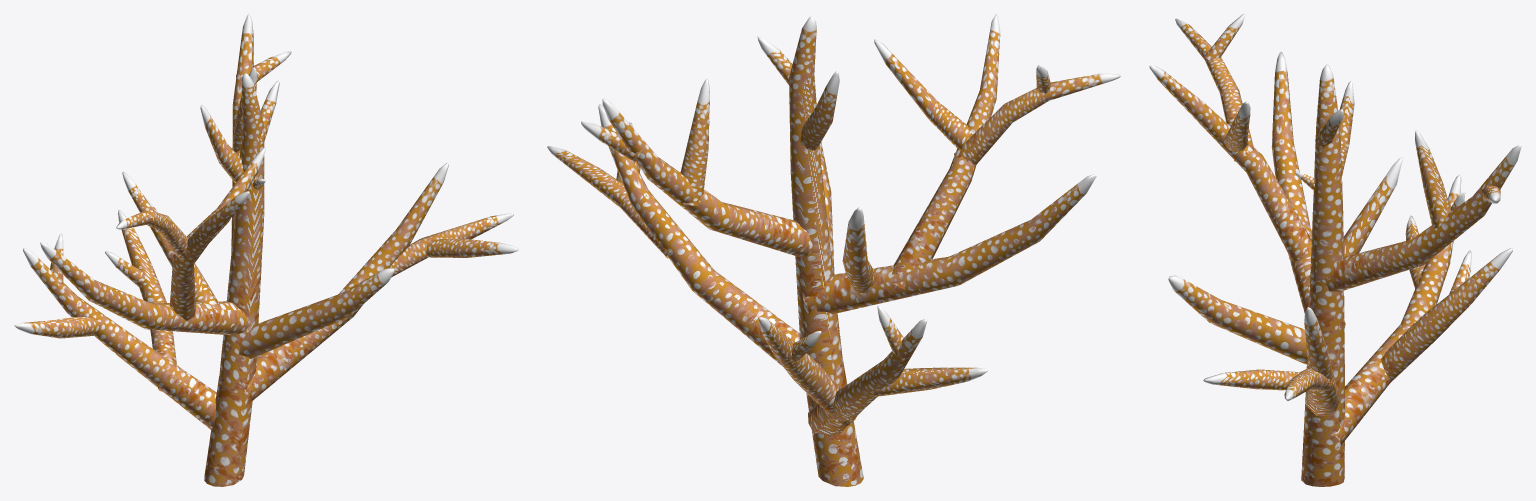
File: StaghornCoral00d.fbx
3 views of the same model, side by side, from view 1: azimuth 30°, elevation 25°; view 2: azimuth 150°, elevation 25°; view 3: azimuth 270°, elevation 25° (orthographic). The views are drawn at different scales.
Parts seen in each view (by area): view 1: Staghorn00d; view 2: Staghorn00d; view 3: Staghorn00d.
Part boxes in pixels (<box>): Staghorn00d: <box>14,14,518,486</box>; Staghorn00d: <box>547,14,1120,486</box>; Staghorn00d: <box>1149,14,1521,486</box>.
Size of the model in its own units: 1.19 by 0.9538 by 0.7478.
